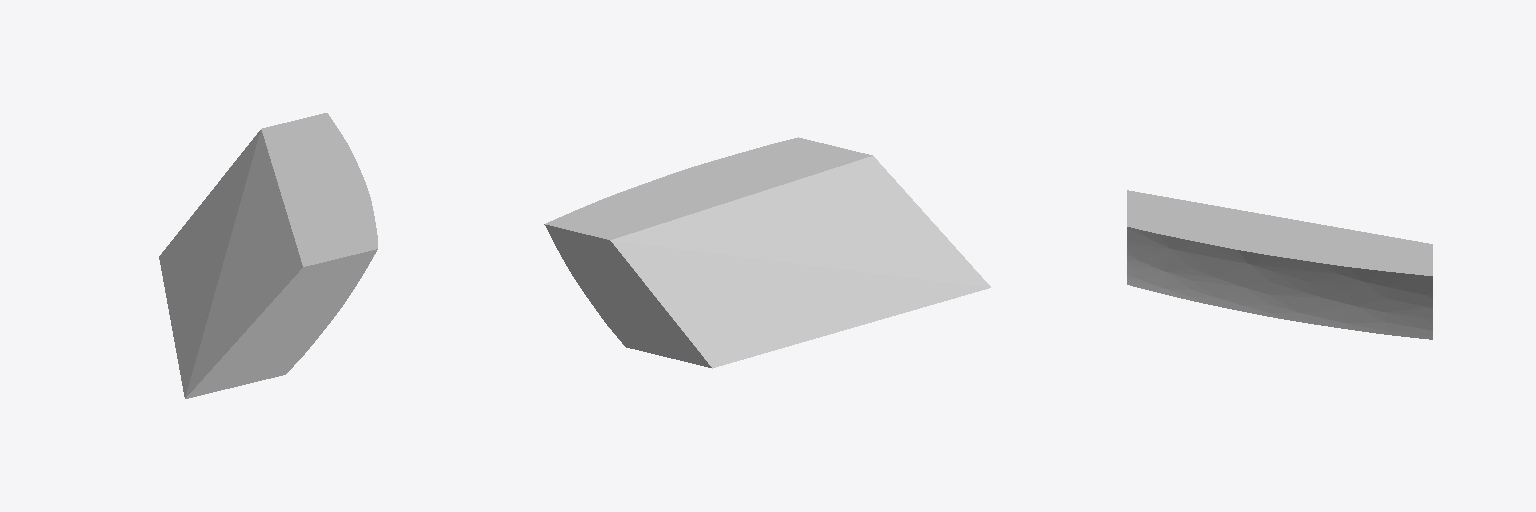
File: pan_collision_18.obj
3 renders of one model, left to right at view 1: azimuth 30°, elevation 25°; view 2: azimuth 150°, elevation 25°; view 3: azimuth 270°, elevation 25°, orthographic.
Size of the model in its own units: 0.0363 by 0.0122 by 0.0326.